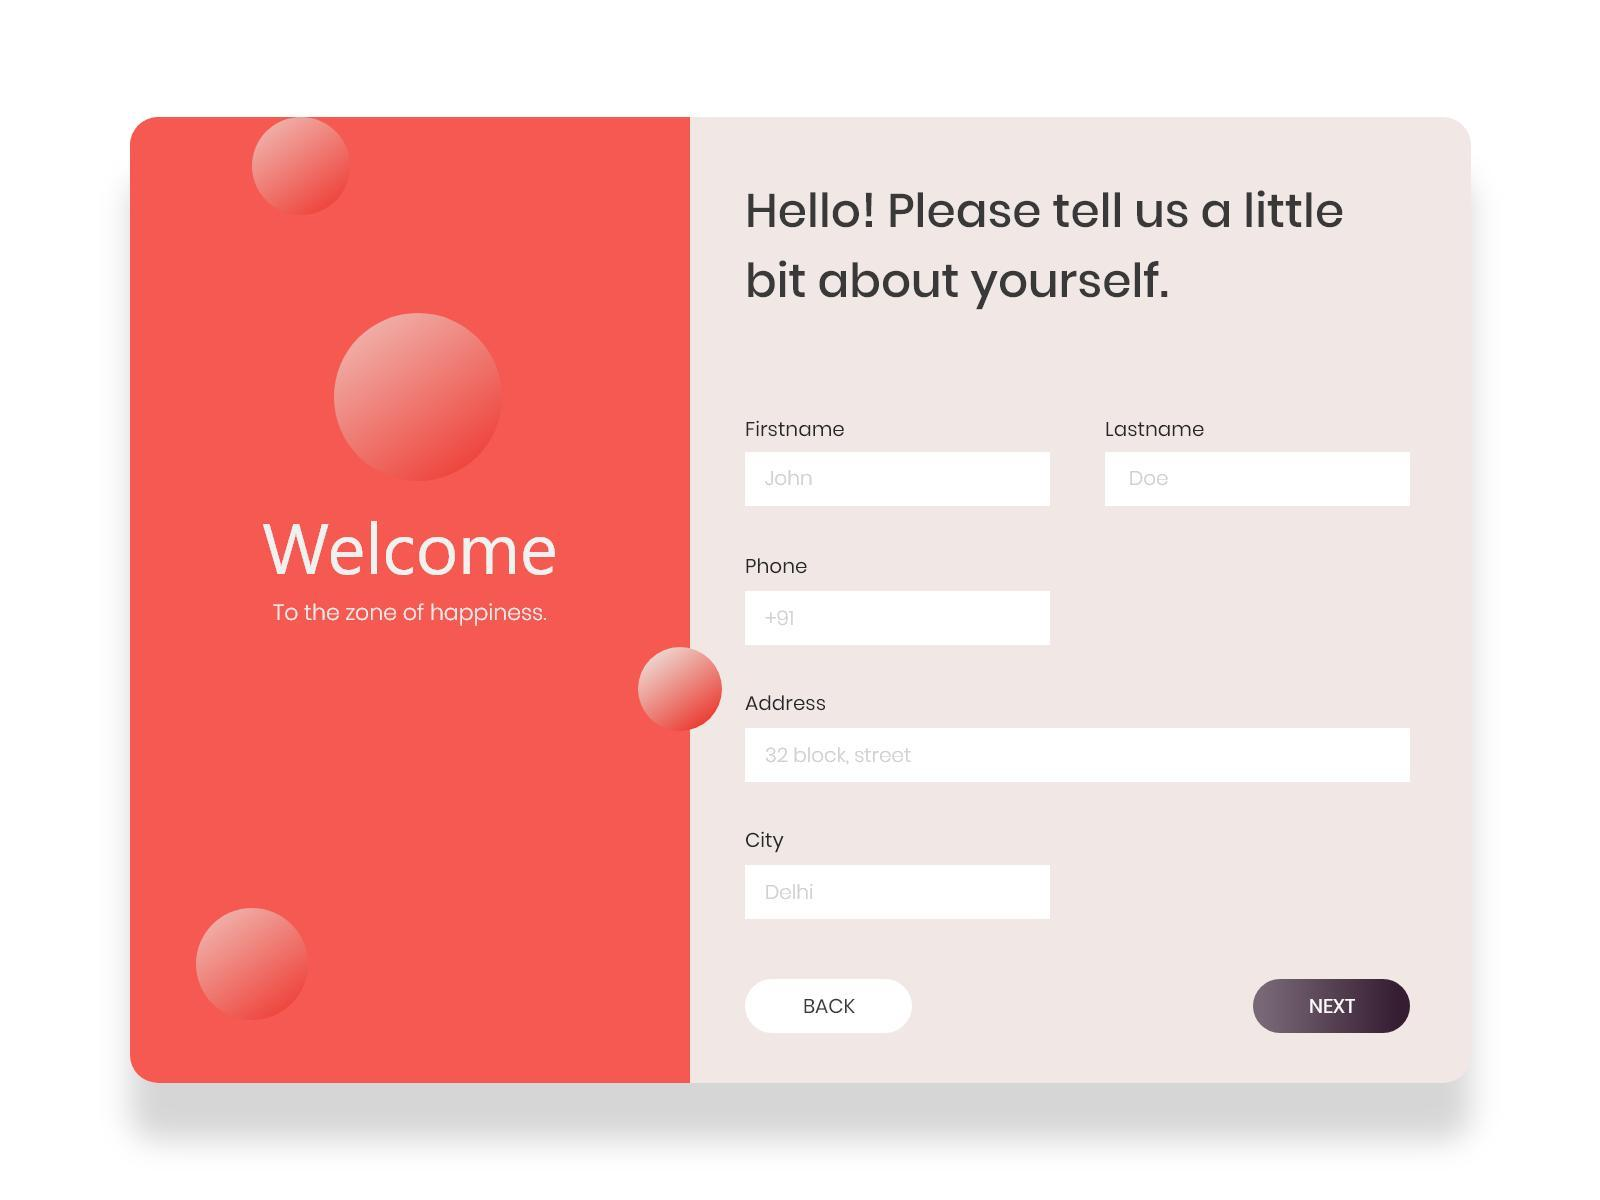button: (746, 978, 913, 1036), (1254, 979, 1412, 1037)
input: (745, 730, 1412, 787), (740, 856, 1060, 926), (742, 589, 1052, 649), (743, 451, 1054, 509), (1106, 453, 1411, 508)
label: (745, 413, 847, 442), (1106, 415, 1206, 439), (746, 693, 828, 718), (745, 557, 814, 579), (741, 826, 789, 850)
